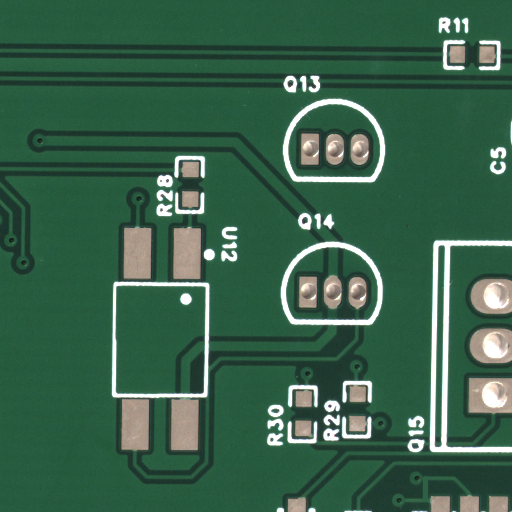Short: (425, 488, 434, 510)
